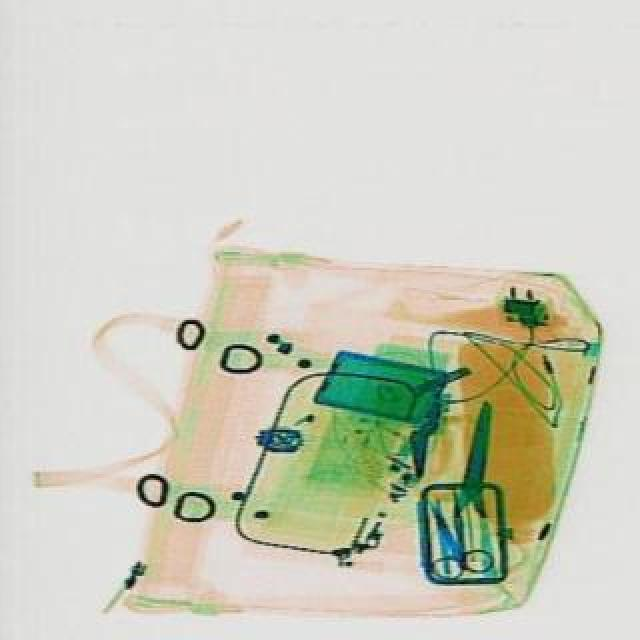pliers: (404, 490, 494, 586)
